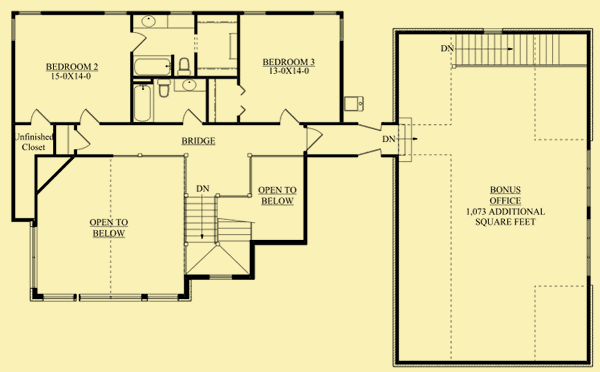door: (303, 125, 324, 154), (71, 128, 94, 153), (76, 106, 102, 125), (179, 107, 205, 126), (129, 30, 149, 51), (277, 109, 300, 127), (28, 109, 52, 126)
large_sink: (174, 56, 193, 78), (156, 78, 174, 98)
small_sink: (132, 10, 168, 30), (173, 78, 205, 91)
stairs: (184, 196, 253, 275), (440, 34, 587, 71)
tub: (133, 55, 175, 76), (133, 80, 154, 121)
window: (75, 292, 143, 303), (101, 9, 127, 18), (243, 9, 265, 18), (312, 9, 339, 15)
